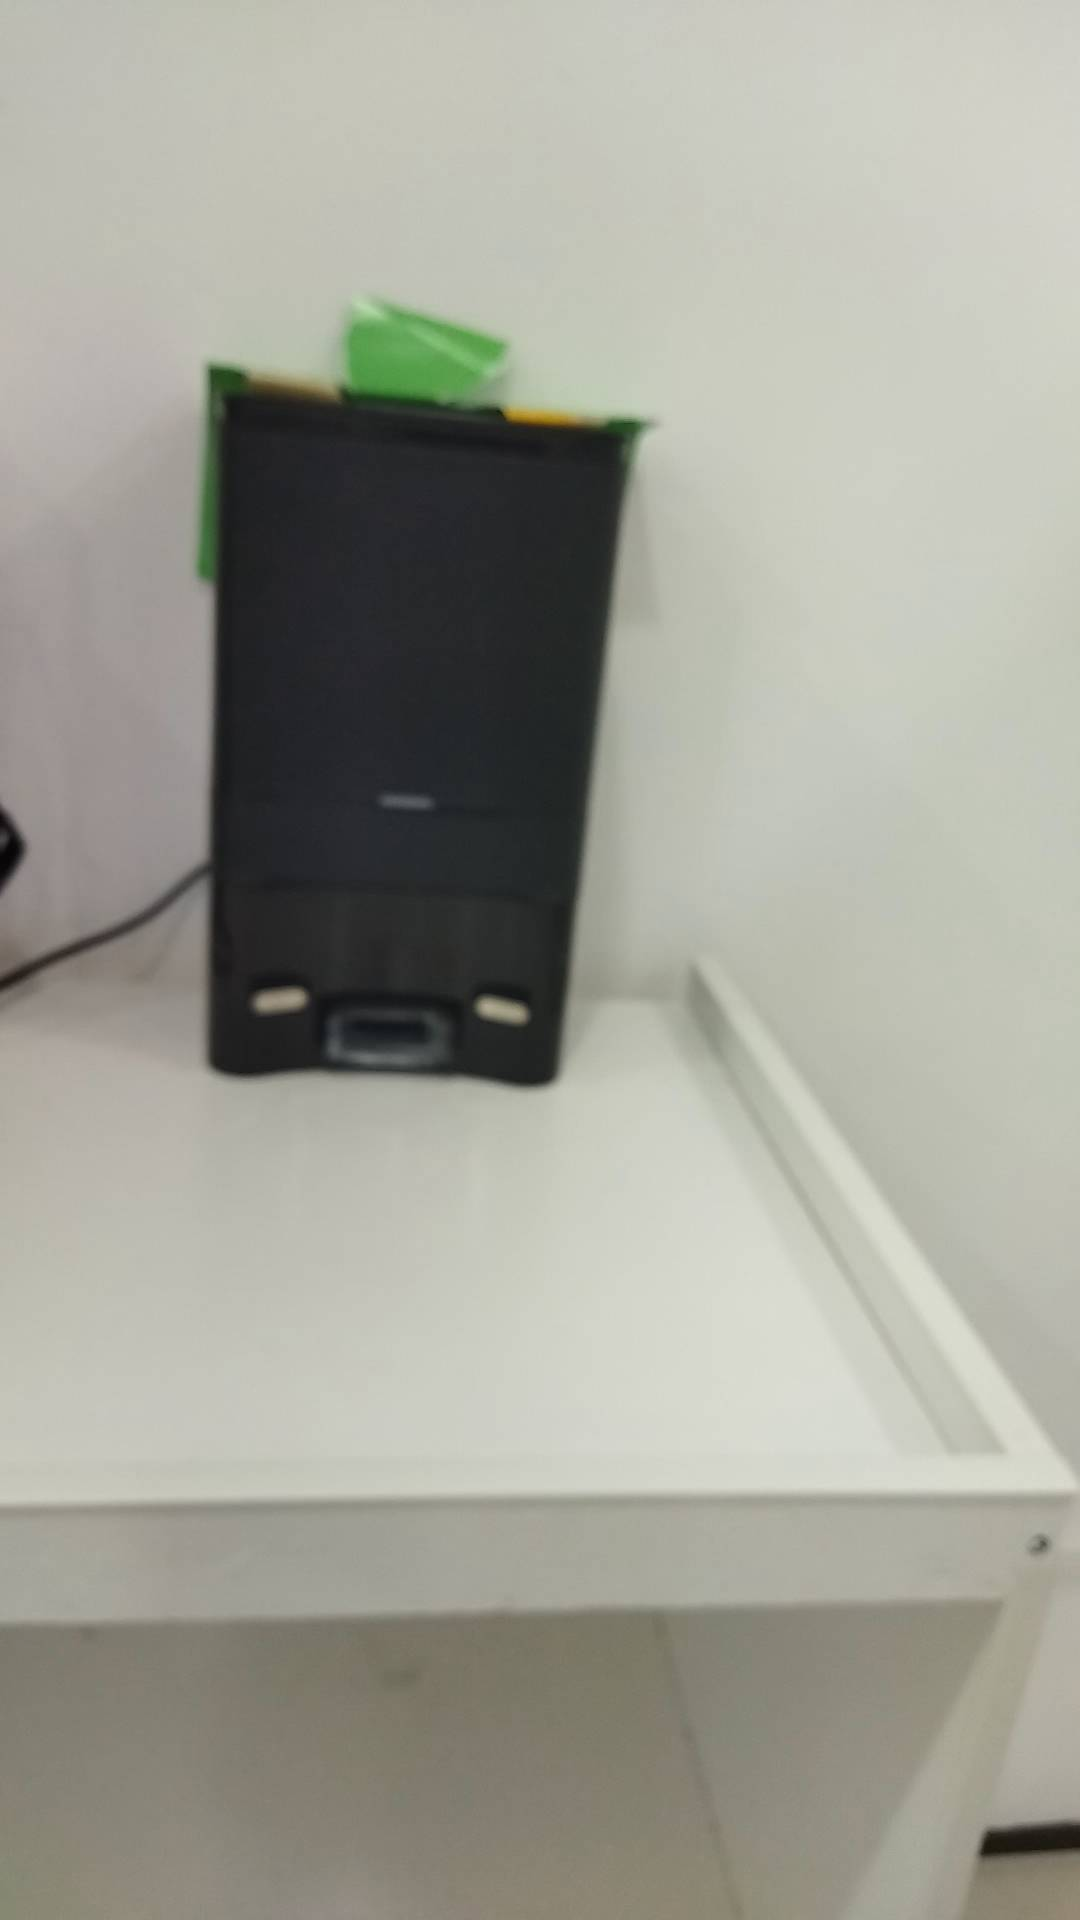dust collecting barrel: (199, 386, 628, 1095)
